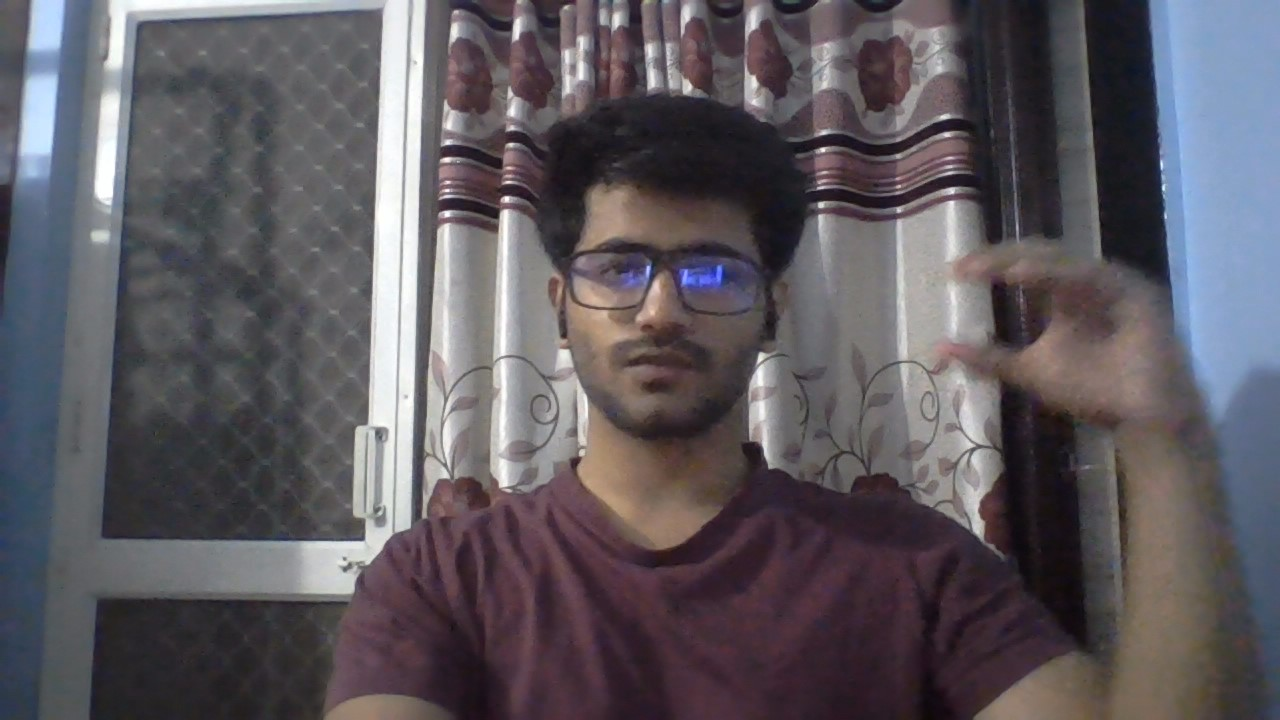C: (918, 207, 1234, 444)
